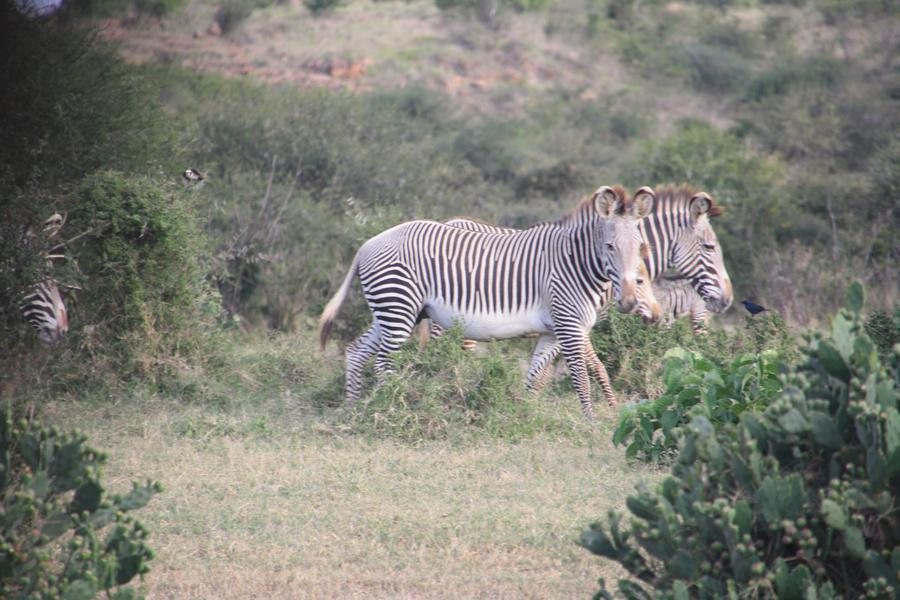zebra_grevys: (362, 217, 587, 324)
